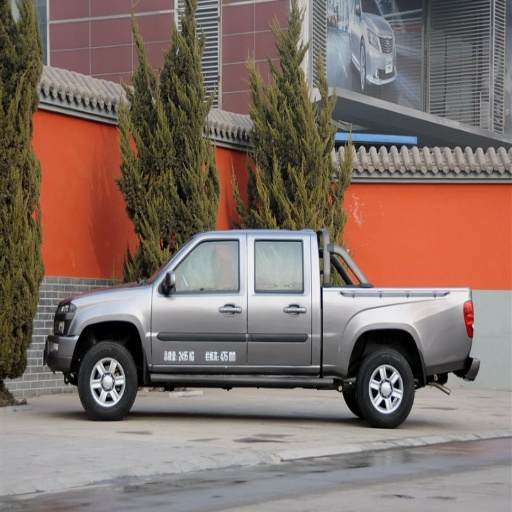back_glass: (248, 237, 312, 363)
front_glass: (153, 236, 248, 366)
tailgate: (316, 288, 468, 375)
trunk: (354, 347, 415, 427), (77, 342, 136, 418)
